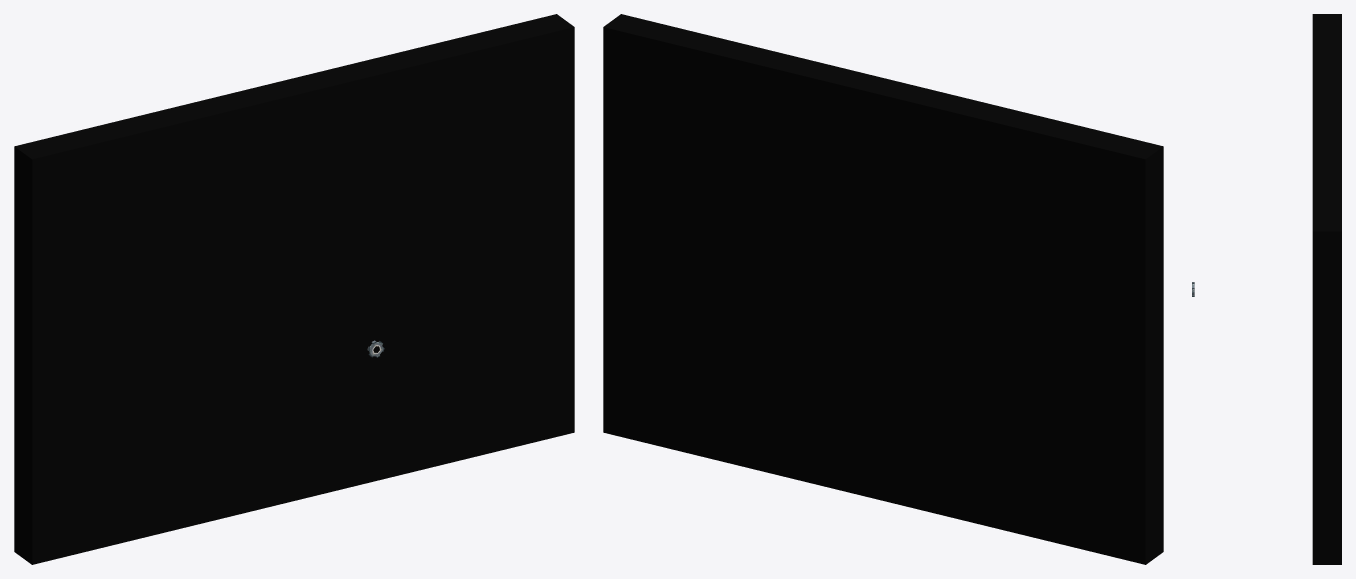
File: load.obj
3 renders of one model, left to right at view 1: azimuth 30°, elevation 25°; view 2: azimuth 150°, elevation 25°; view 3: azimuth 270°, elevation 25°, orthographic. The views are drawn at different scales.
Visible parts, largest first — view 1: Plane; view 2: Plane; view 3: Plane.
Boxes of the visible parts, <box> form: Plane: <box>14,14,574,564</box>; Plane: <box>603,14,1163,564</box>; Plane: <box>1312,14,1341,564</box>.
Size of the model in its own units: 14 by 10 by 4.07.
